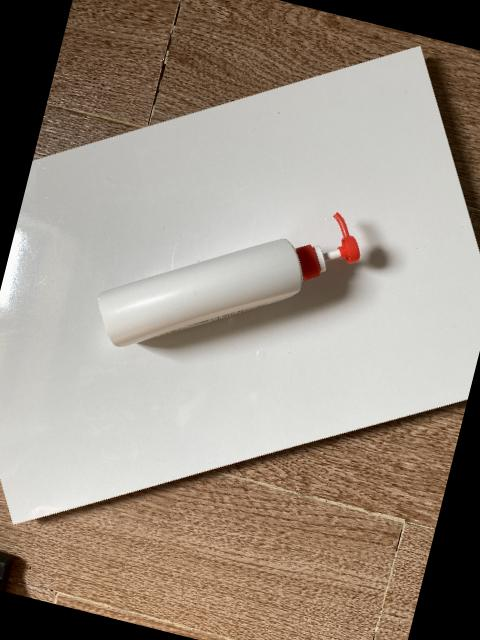life-buoy: (97, 212, 361, 348)
